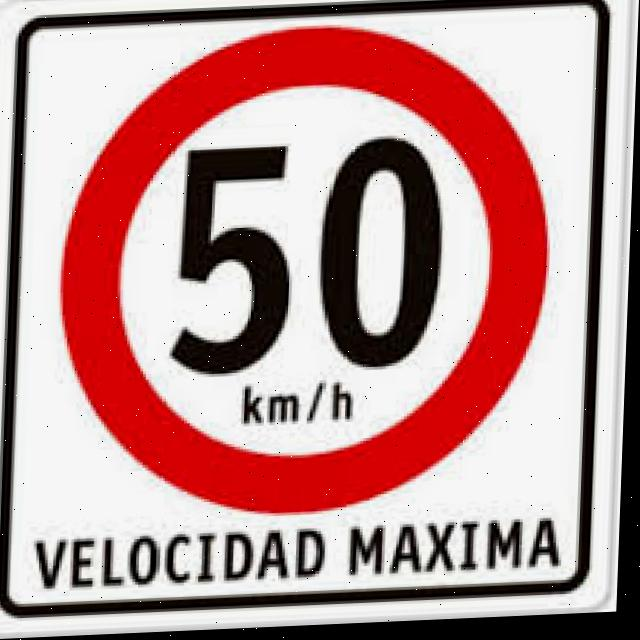Speed limit 50: (52, 15, 563, 525)
